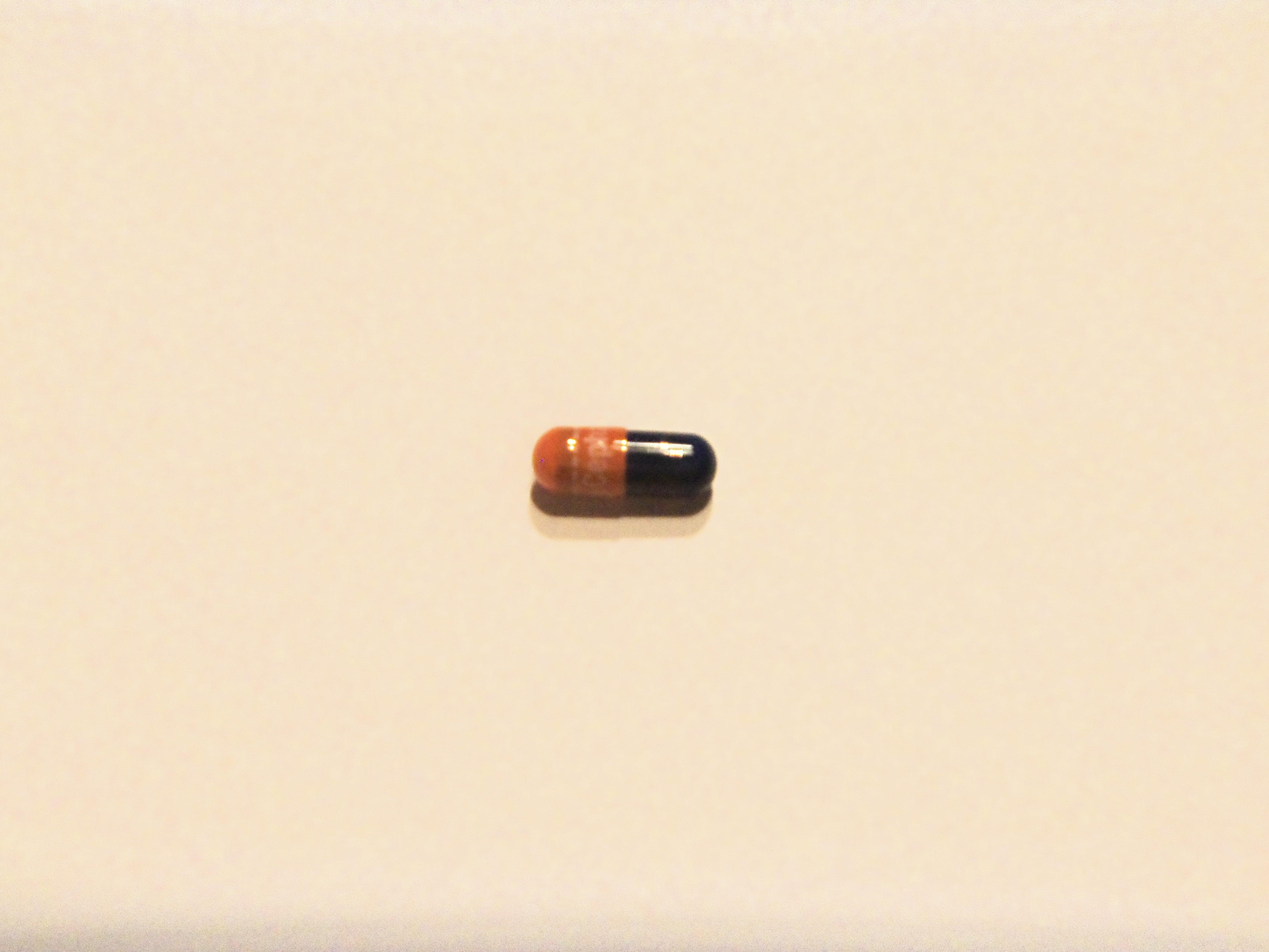Pill: (521, 414, 729, 527)
